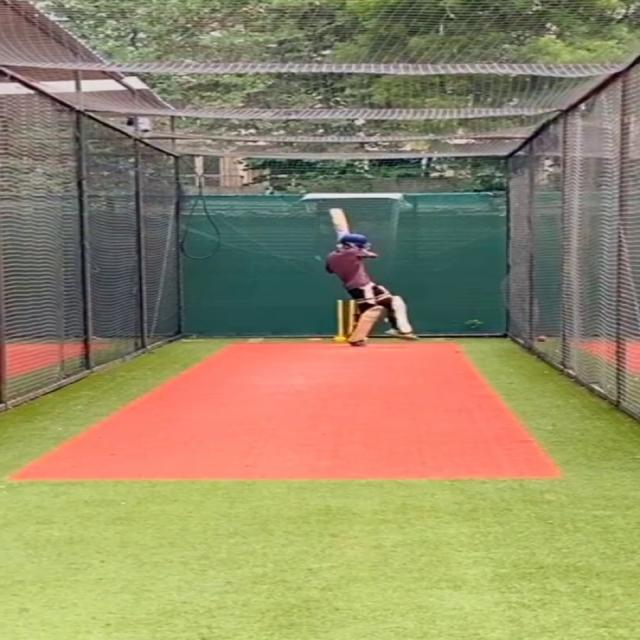stump: (334, 297, 356, 343)
